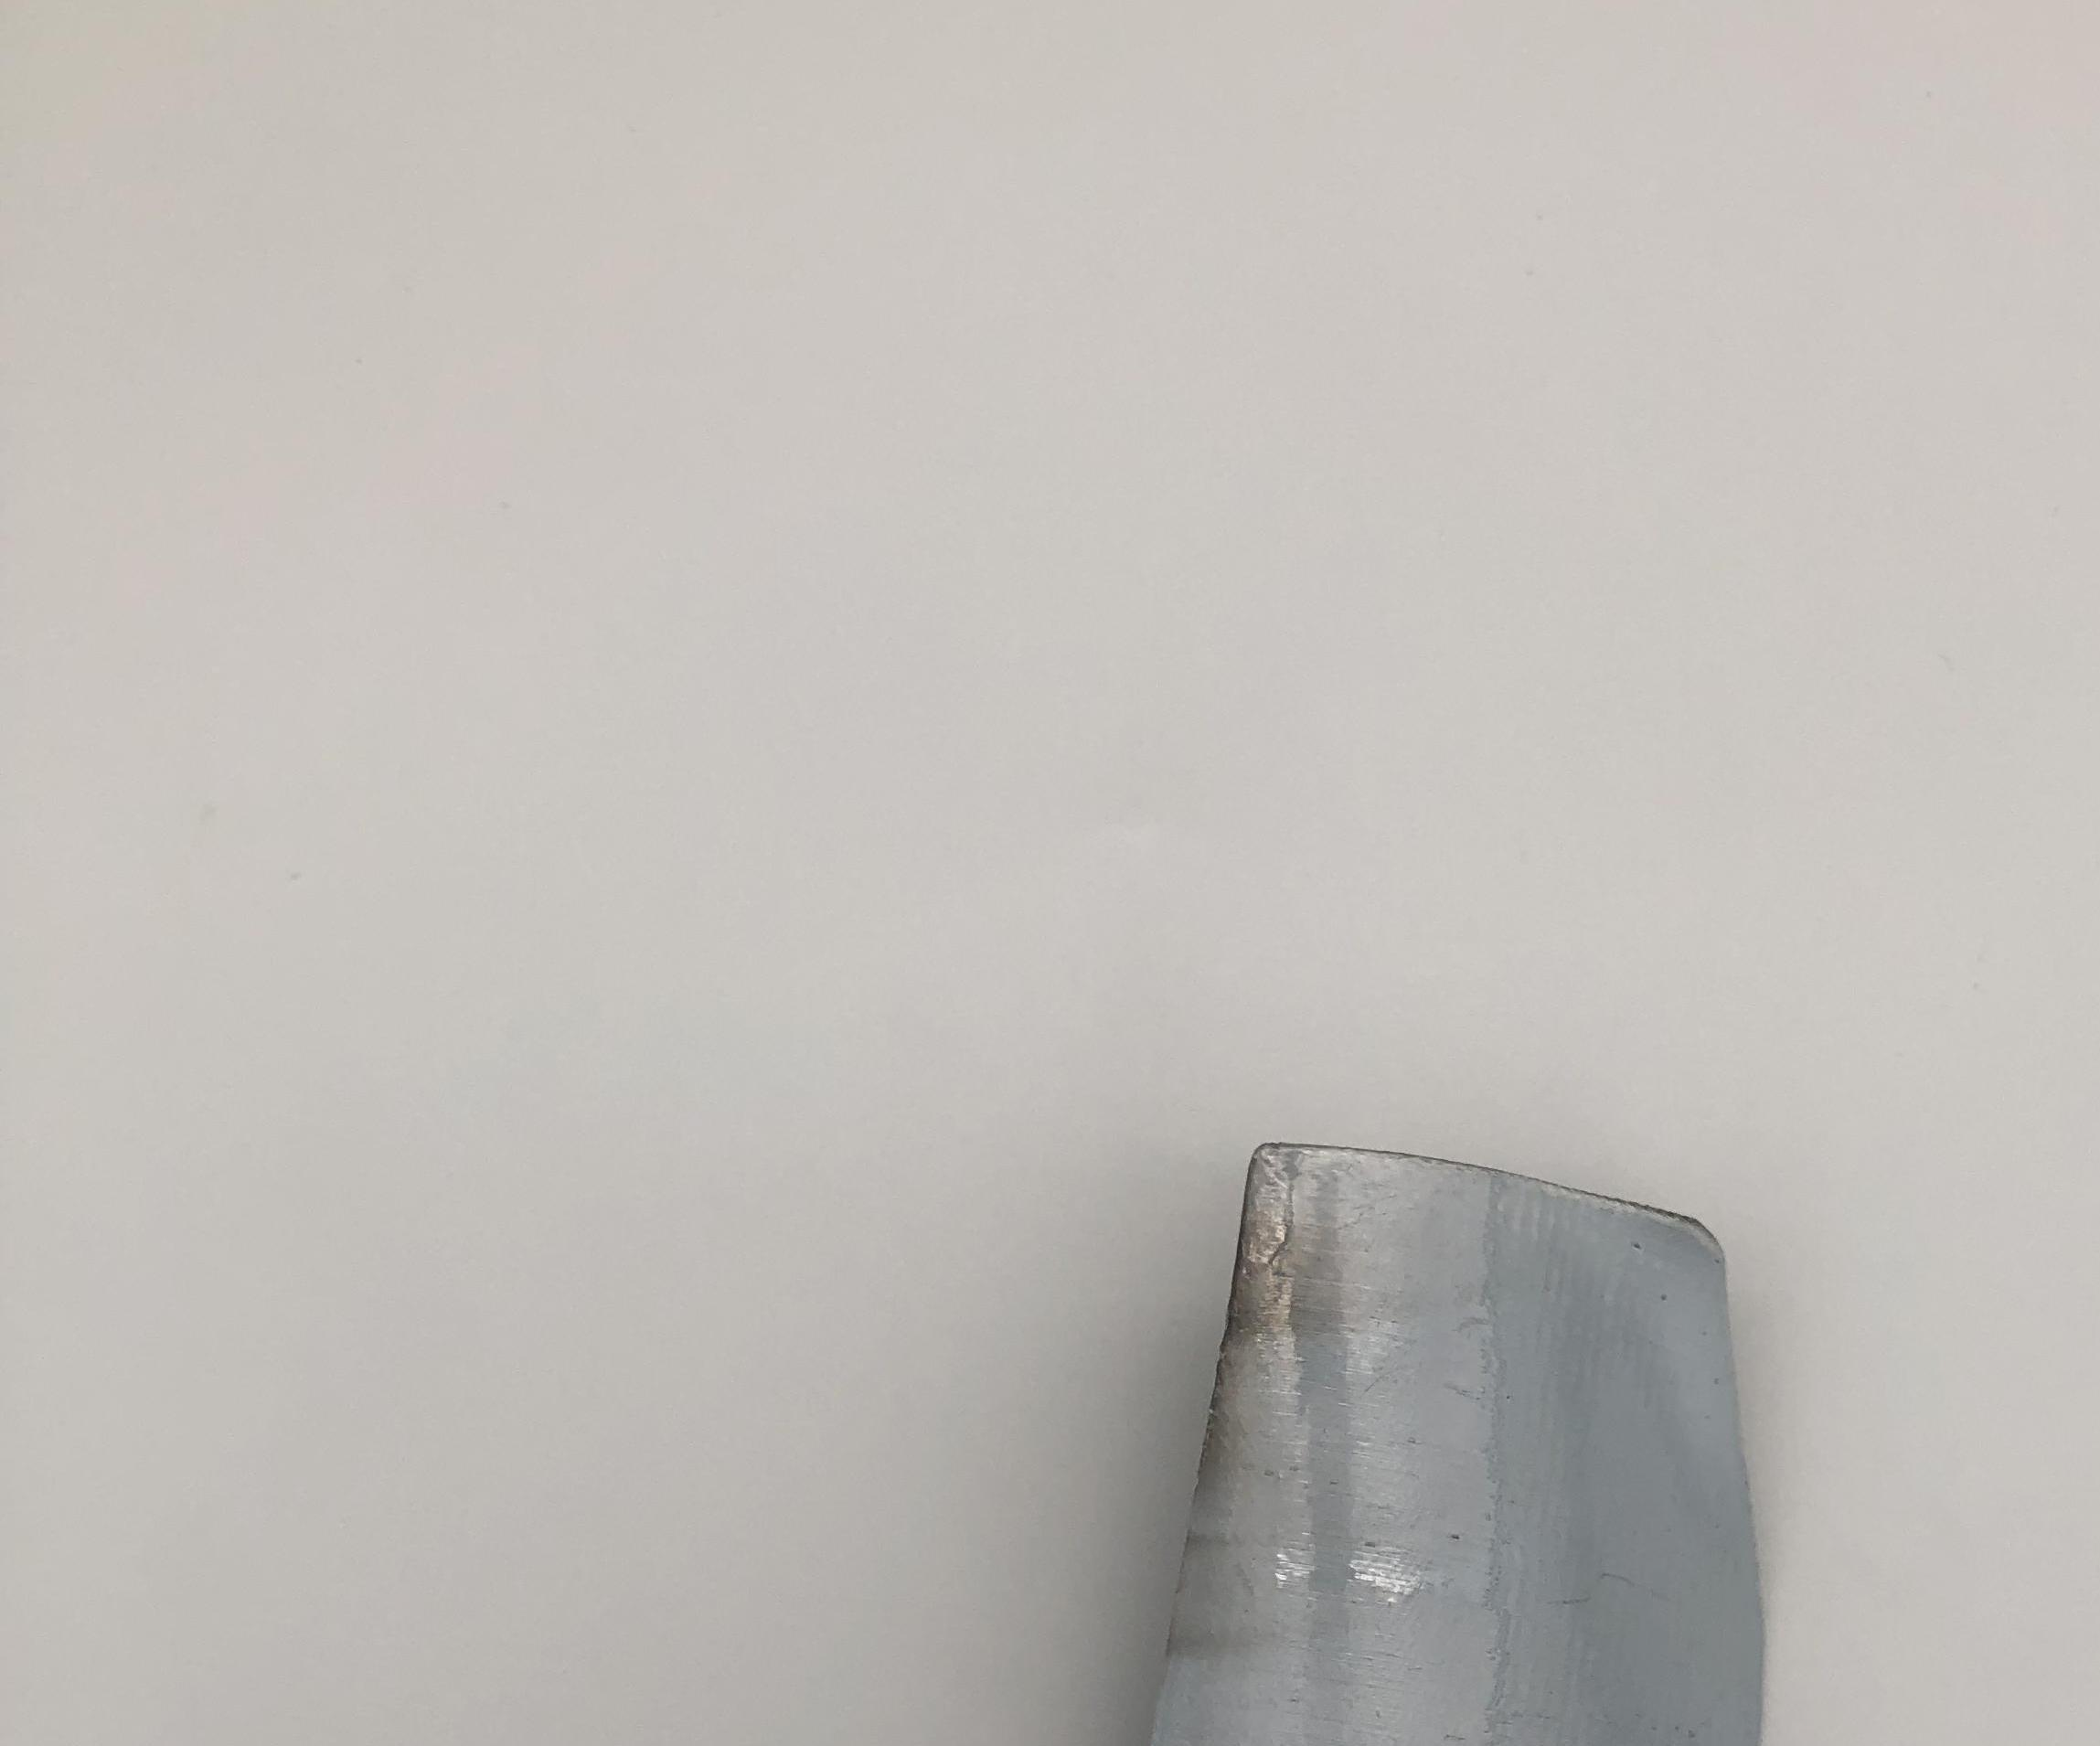ablation: (1198, 1153, 1312, 1488)
